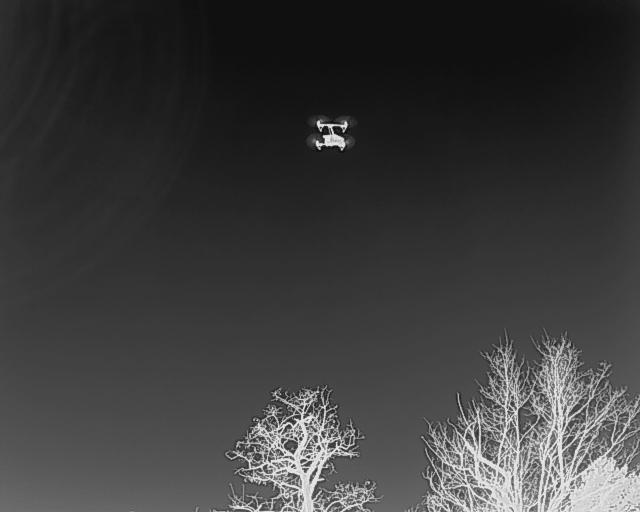drone: (306, 118, 357, 163)
